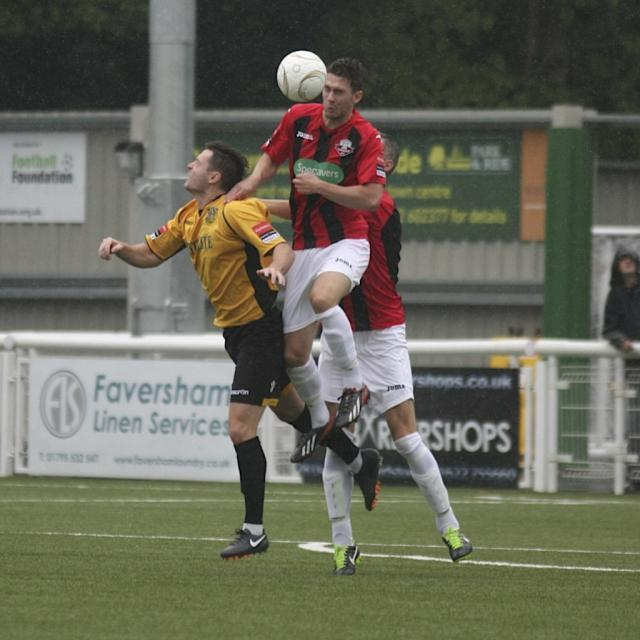football: (261, 37, 343, 111)
